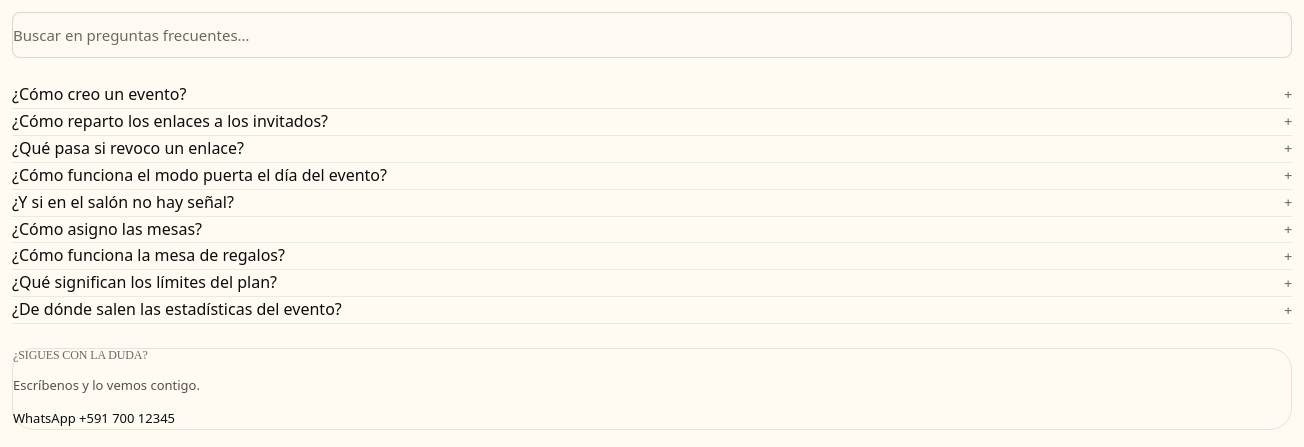
HelpCenter · buscador › sin coincidencias lo dice y no deja la lista muda
The image size is (1304, 447).
Type "zzzz" into the search field labelled "Buscar en preguntas frecuentes" at (652, 35), box [12,12,1292,58]
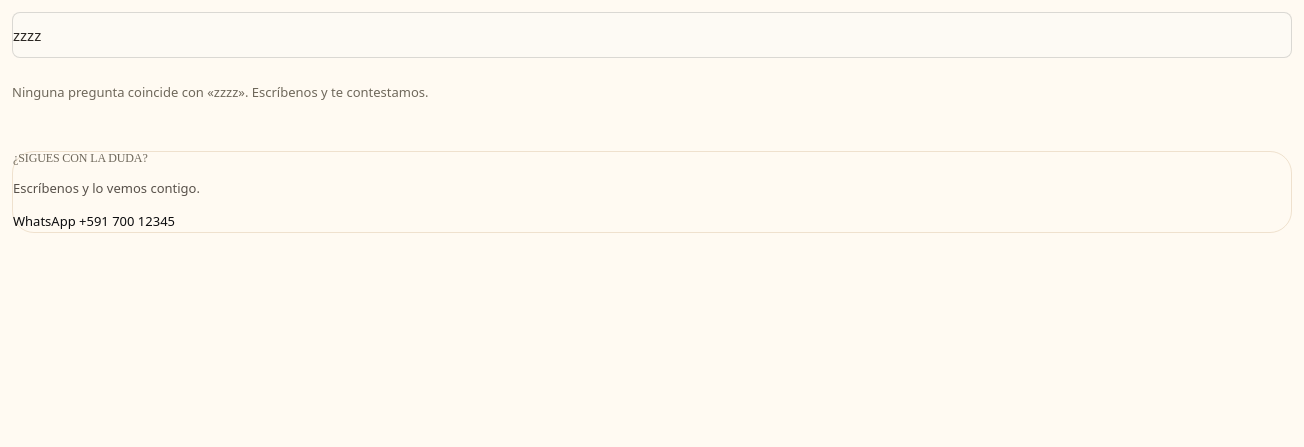
Result: the text "Ninguna pregunta coincide" is shown at [12,83,214,101]
